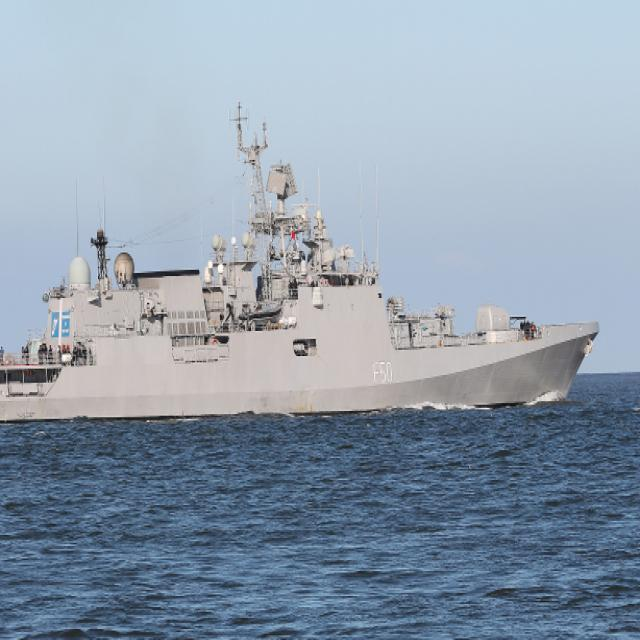Fragata: (1, 79, 603, 435)
